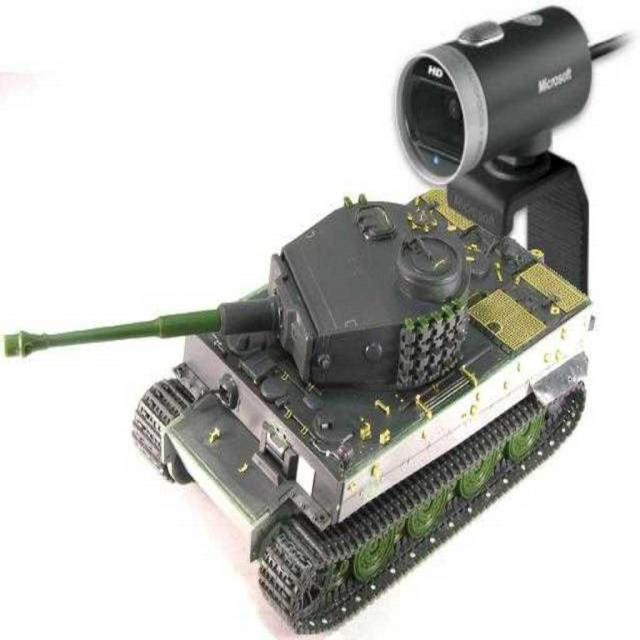tank: (0, 3, 592, 638)
